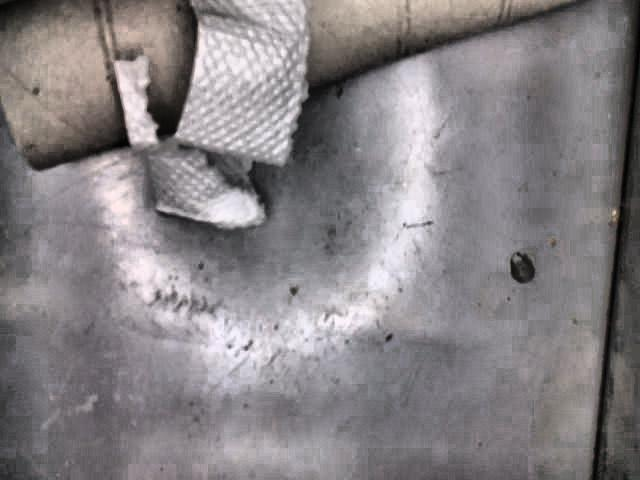Paper: (2, 0, 603, 231)
